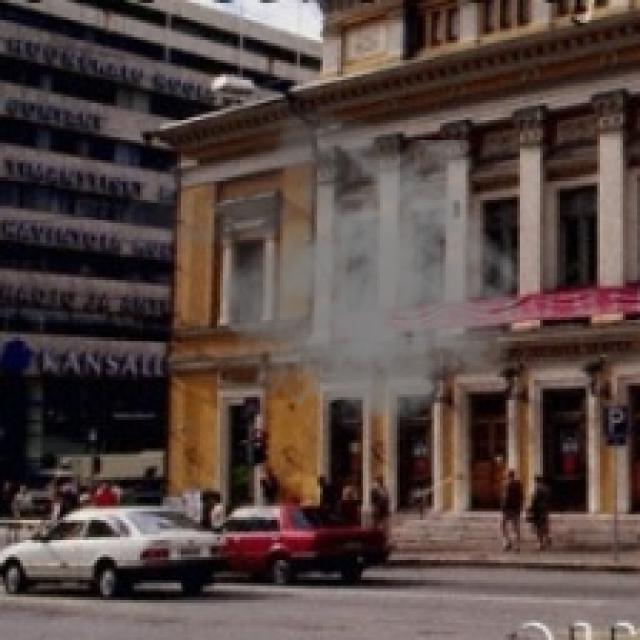smoke: (109, 97, 534, 443)
